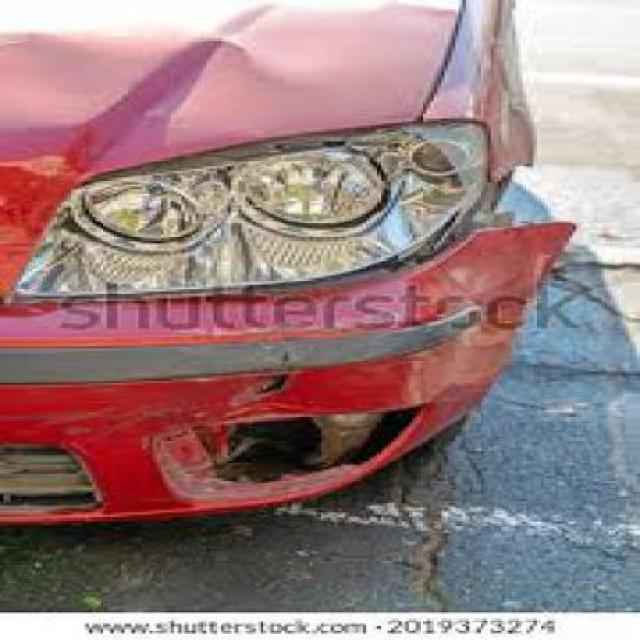damaged-front-bumper: (0, 182, 562, 526)
